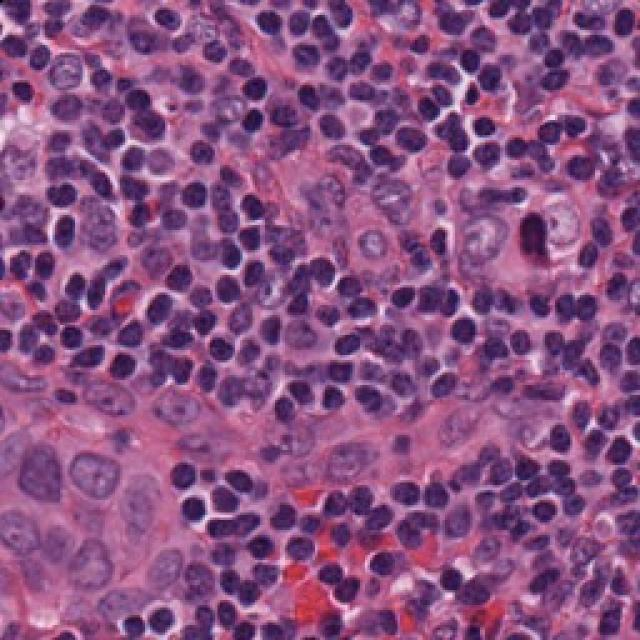abnormal: (518, 174, 597, 273), (299, 418, 396, 497), (54, 426, 132, 524), (163, 404, 249, 484), (348, 166, 432, 243), (60, 524, 132, 604), (452, 193, 517, 277), (6, 434, 70, 517)
